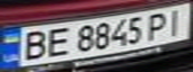4: (109, 16, 133, 47)
5: (124, 14, 151, 45)
8: (90, 19, 115, 51), (72, 21, 96, 53)
B: (15, 28, 51, 62)
E: (42, 25, 75, 58)
I: (160, 6, 190, 36)
P: (142, 10, 175, 40)
